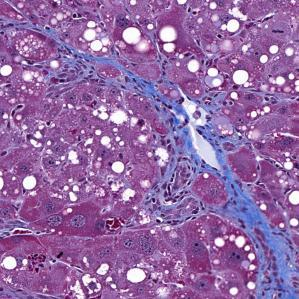fibrosis: (158, 98, 259, 222), (85, 52, 168, 110), (246, 233, 299, 299)
